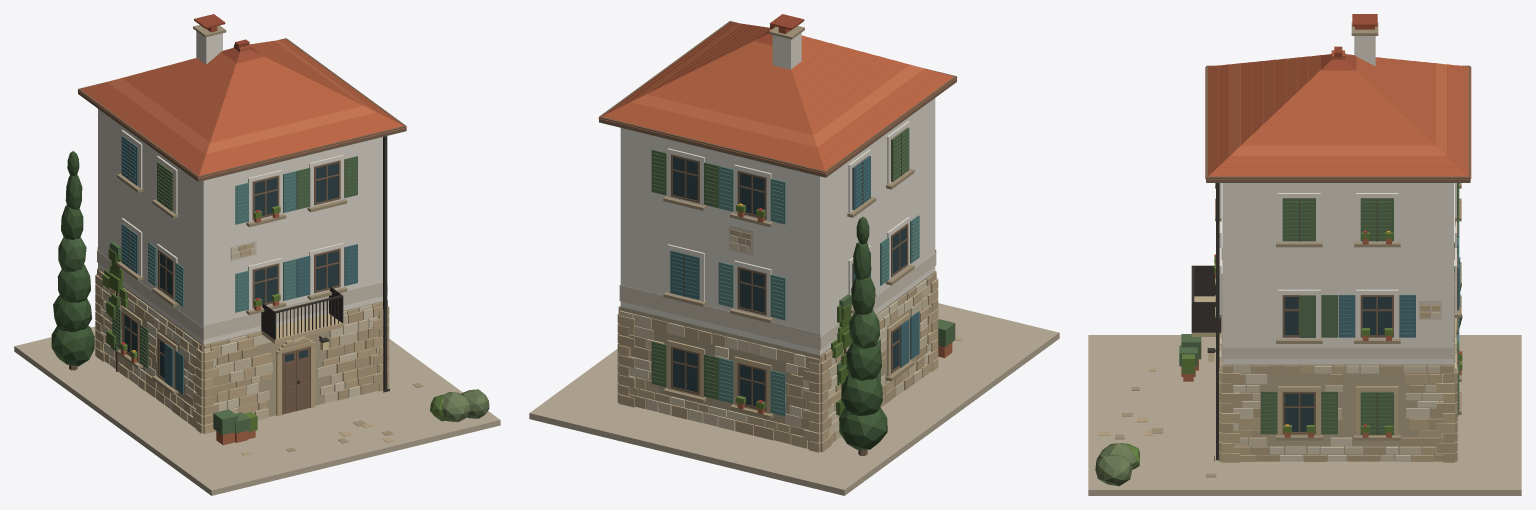
Rendered from ev-uc-katli.glb.
3 views of the same model, side by side, from view 1: azimuth 30°, elevation 25°; view 2: azimuth 150°, elevation 25°; view 3: azimuth 270°, elevation 25° (orthographic). The views are drawn at different scales.
Parts seen in each view (by area): view 1: badana, zemin, kiremit1, tas2, ahsap, tas3, servi, cam, kiremit3, badana_kir, tas1, harc (+13 smaller); view 2: badana, zemin, kiremit1, tas2, tas3, ahsap, servi, cam, kepenk2, badana_kir, kiremit3, harc (+8 smaller); view 3: zemin, badana, kiremit1, yesil_kepenk, harc, tas2, tas3, kiremit3, ahsap, badana_kir, tas4, demir (+9 smaller).
Boxes of the visible parts, bbox=[...] form: badana: bbox=[98, 31, 382, 344]; zemin: bbox=[14, 326, 500, 495]; kiremit1: bbox=[77, 39, 406, 178]; tas2: bbox=[95, 243, 389, 433]; ahsap: bbox=[78, 38, 406, 414]; tas3: bbox=[95, 245, 394, 455]; servi: bbox=[51, 151, 94, 366]; cam: bbox=[124, 136, 338, 378]; kiremit3: bbox=[108, 40, 376, 154]; badana_kir: bbox=[97, 240, 387, 339]; tas1: bbox=[97, 248, 387, 425]; harc: bbox=[98, 268, 382, 424]; badana: bbox=[620, 33, 935, 355]; zemin: bbox=[529, 303, 1059, 495]; kiremit1: bbox=[598, 22, 957, 173]; tas2: bbox=[617, 271, 938, 452]; tas3: bbox=[617, 229, 963, 452]; ahsap: bbox=[599, 21, 956, 411]; servi: bbox=[839, 216, 887, 449]; cam: bbox=[673, 135, 906, 406]; kepenk2: bbox=[718, 166, 919, 416]; badana_kir: bbox=[619, 224, 936, 349]; kiremit3: bbox=[631, 23, 924, 147]; harc: bbox=[620, 271, 935, 442]; zemin: bbox=[1088, 335, 1521, 495]; badana: bbox=[1219, 36, 1456, 364]; kiremit1: bbox=[1205, 50, 1471, 179]; yesil_kepenk: bbox=[1219, 183, 1459, 434]; harc: bbox=[1222, 364, 1454, 461]; tas2: bbox=[1191, 273, 1457, 462]; tas3: bbox=[1099, 273, 1457, 462]; kiremit3: bbox=[1229, 63, 1446, 156]; ahsap: bbox=[1206, 65, 1470, 434]; badana_kir: bbox=[1221, 221, 1455, 358]; tas4: bbox=[1219, 221, 1455, 461]; demir: bbox=[1191, 183, 1221, 461].
Size of the model in its own units: 11.02 by 12.84 by 13.
